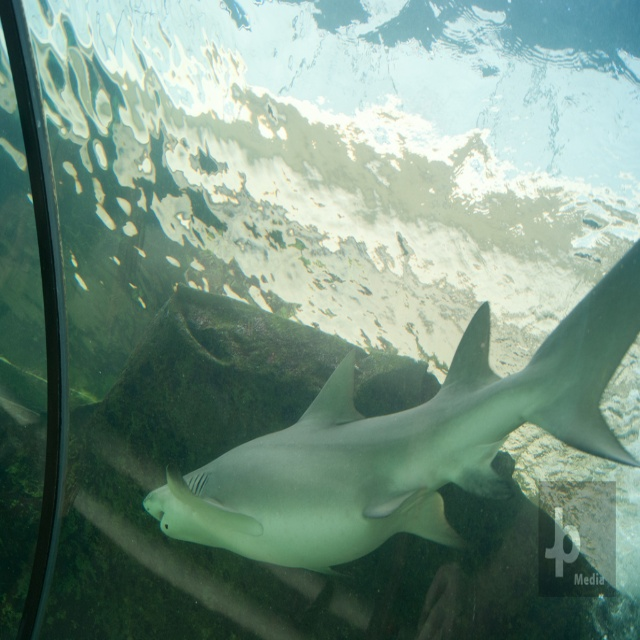Shark: (144, 237, 638, 575)
